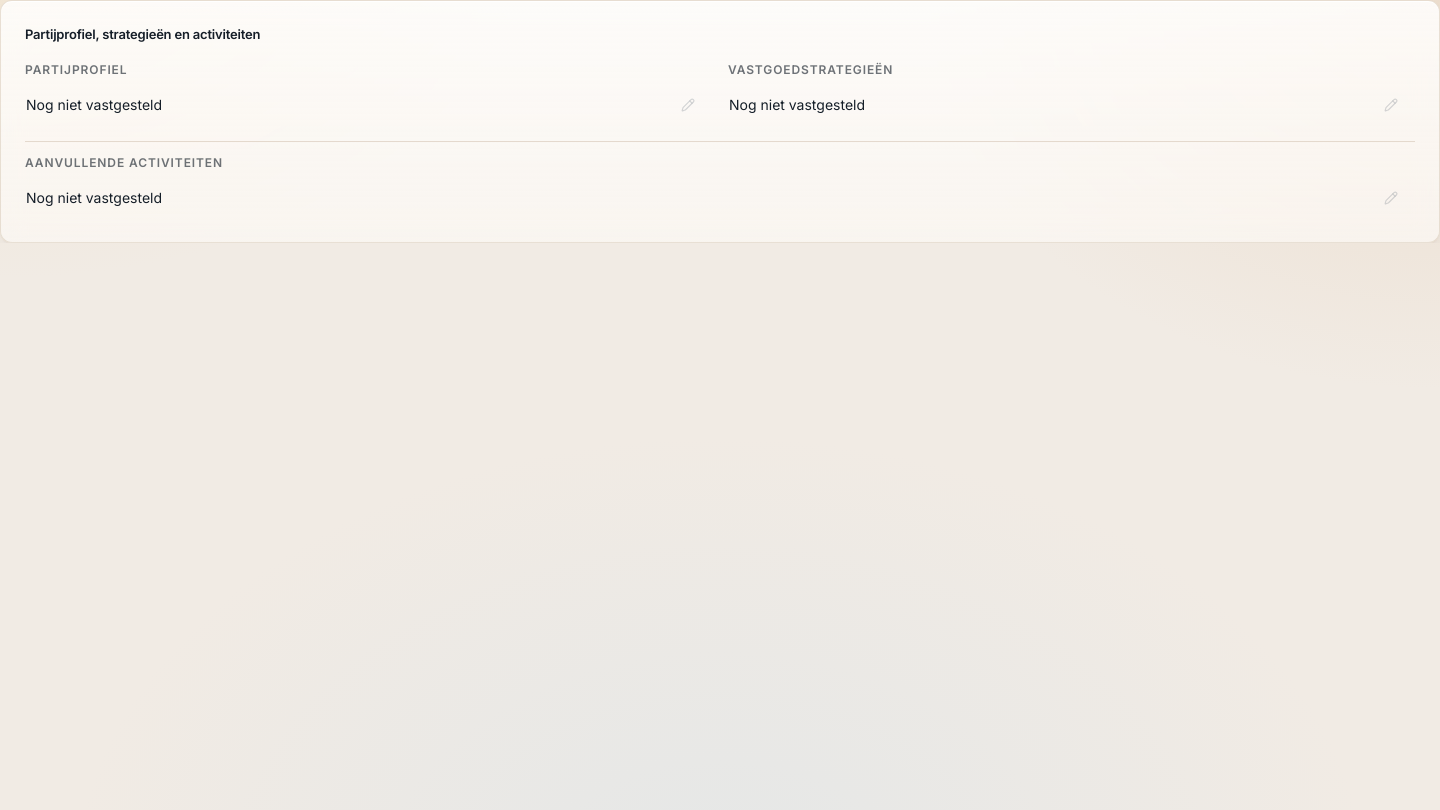
Test: A15.10 — één inline classificatie, één gerichte opslagpatch › behoudt invoer wanneer de database-opslag mislukt
The image size is (1440, 810).
Click the button with aria-label "Wijzig Partijprofiel" at (94, 104), box [17,84,704,124]
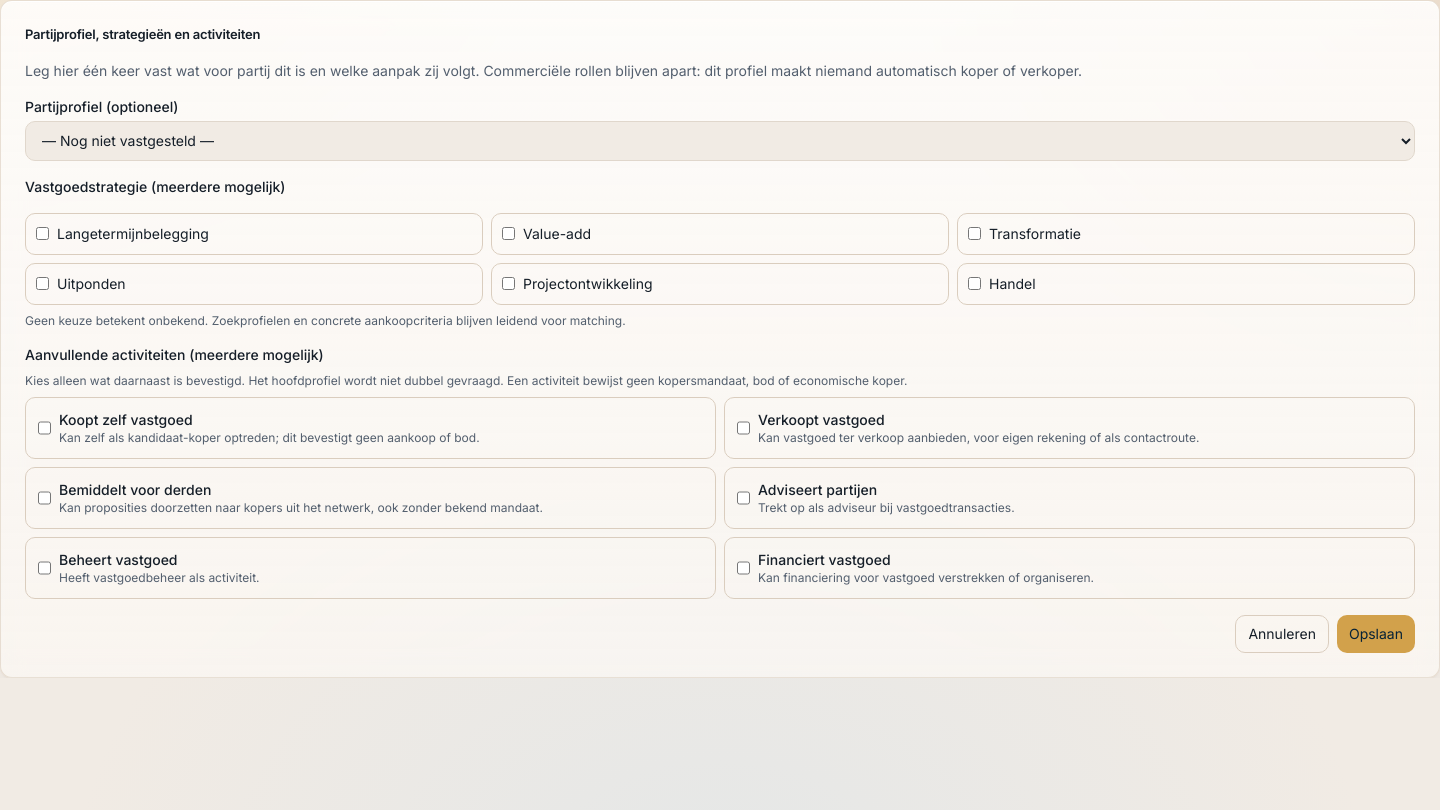
Select "Bemiddelaar" in the dropdown labelled "Partijprofiel" at (720, 140), box [25,120,1415,160]
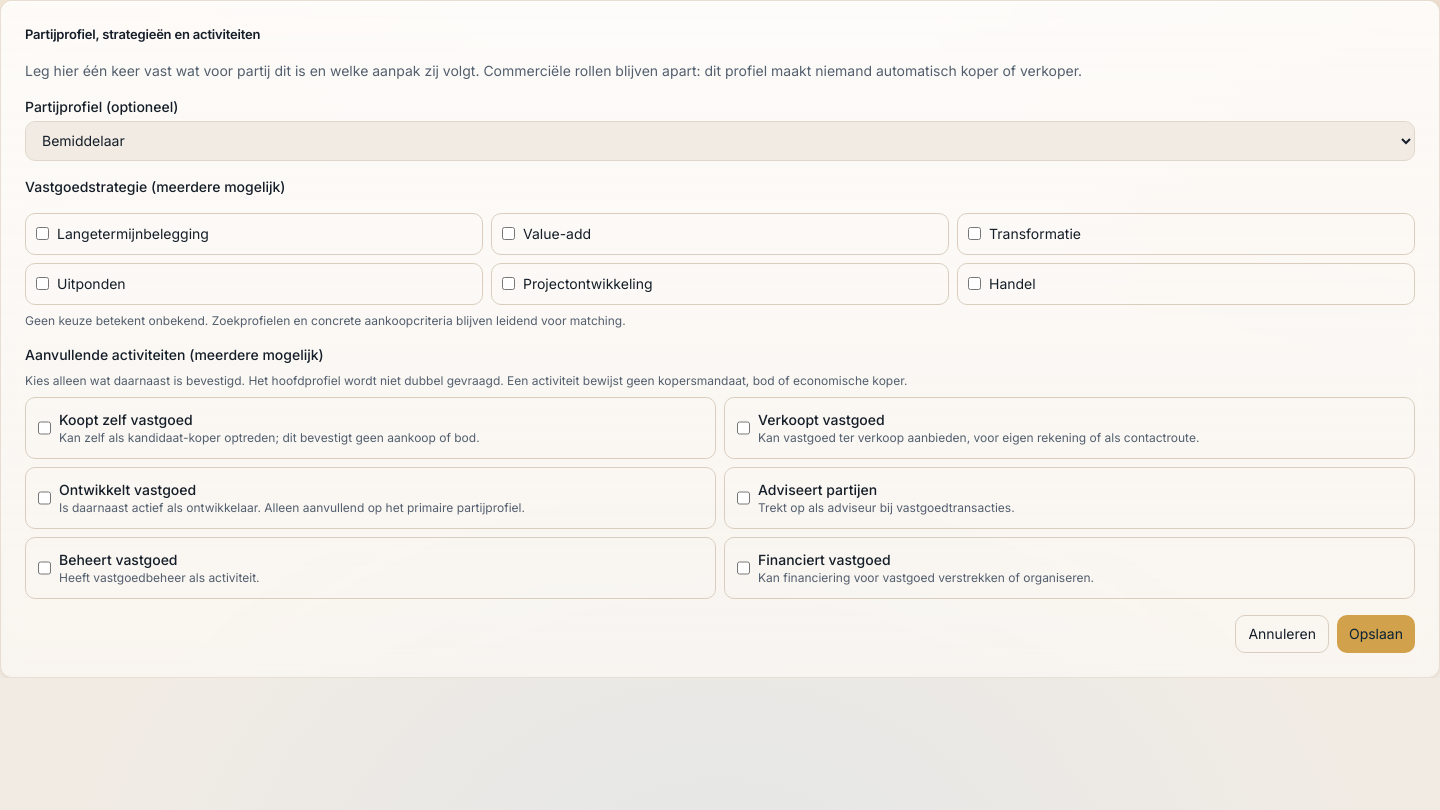
Click the checkbox labelled "Ontwikkelt vastgoed" at (44, 498), box [38,480,51,516]
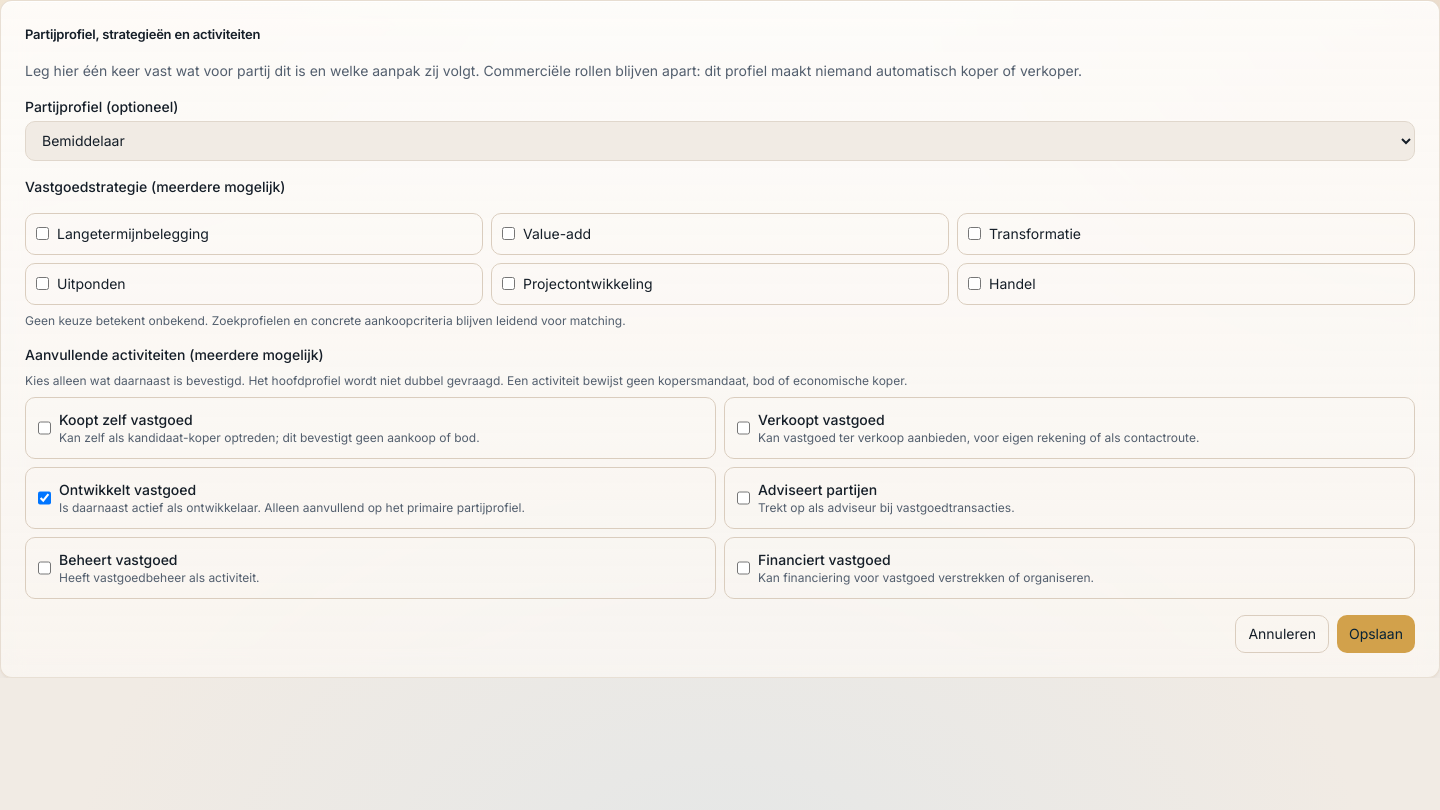
Click the button "Opslaan" at (1376, 634), box [1337,614,1415,652]
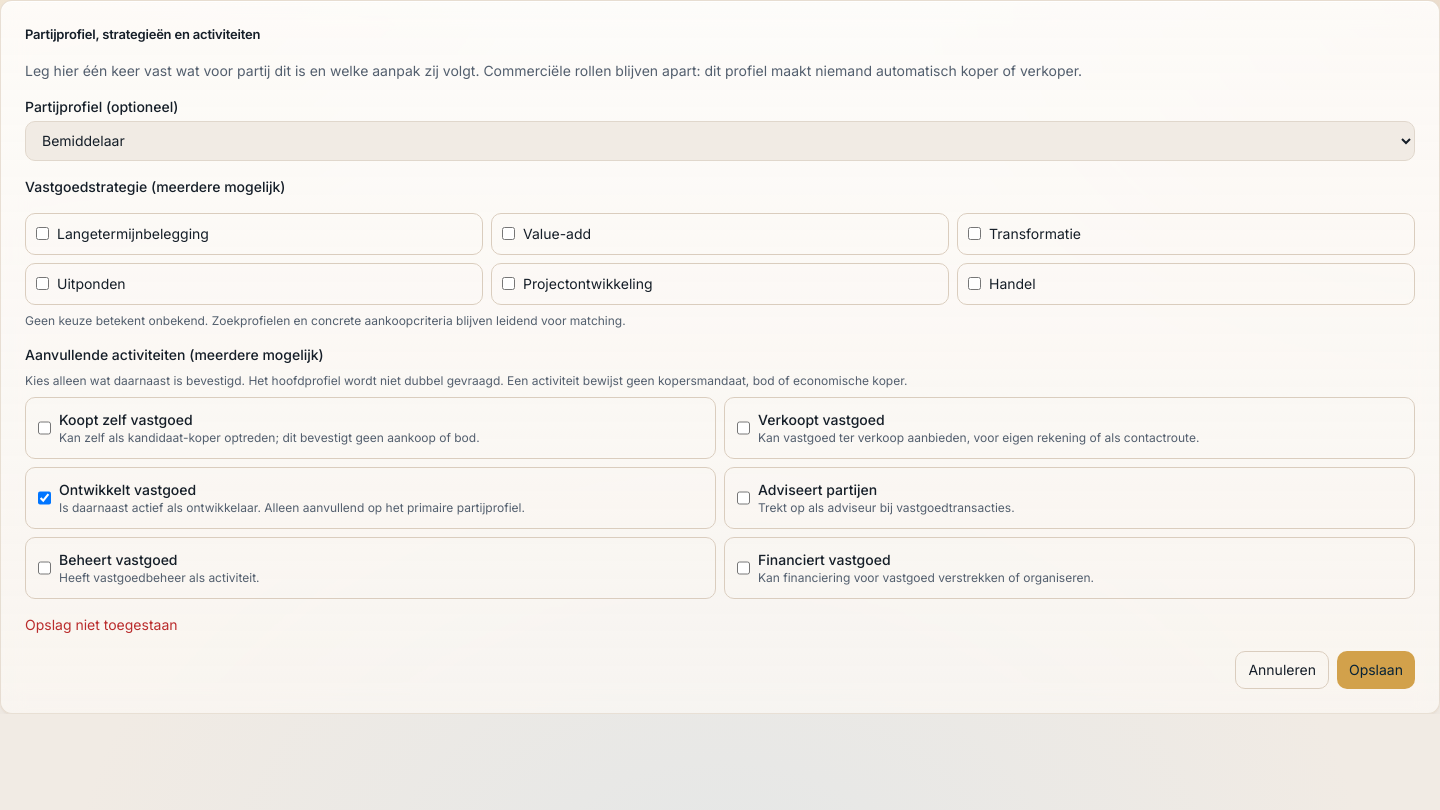
expect the checkbox labelled "Ontwikkelt vastgoed" is checked: met, box [38,480,51,516]
expect the message reads "Opslag niet toegestaan": met, box [25,616,178,632]
